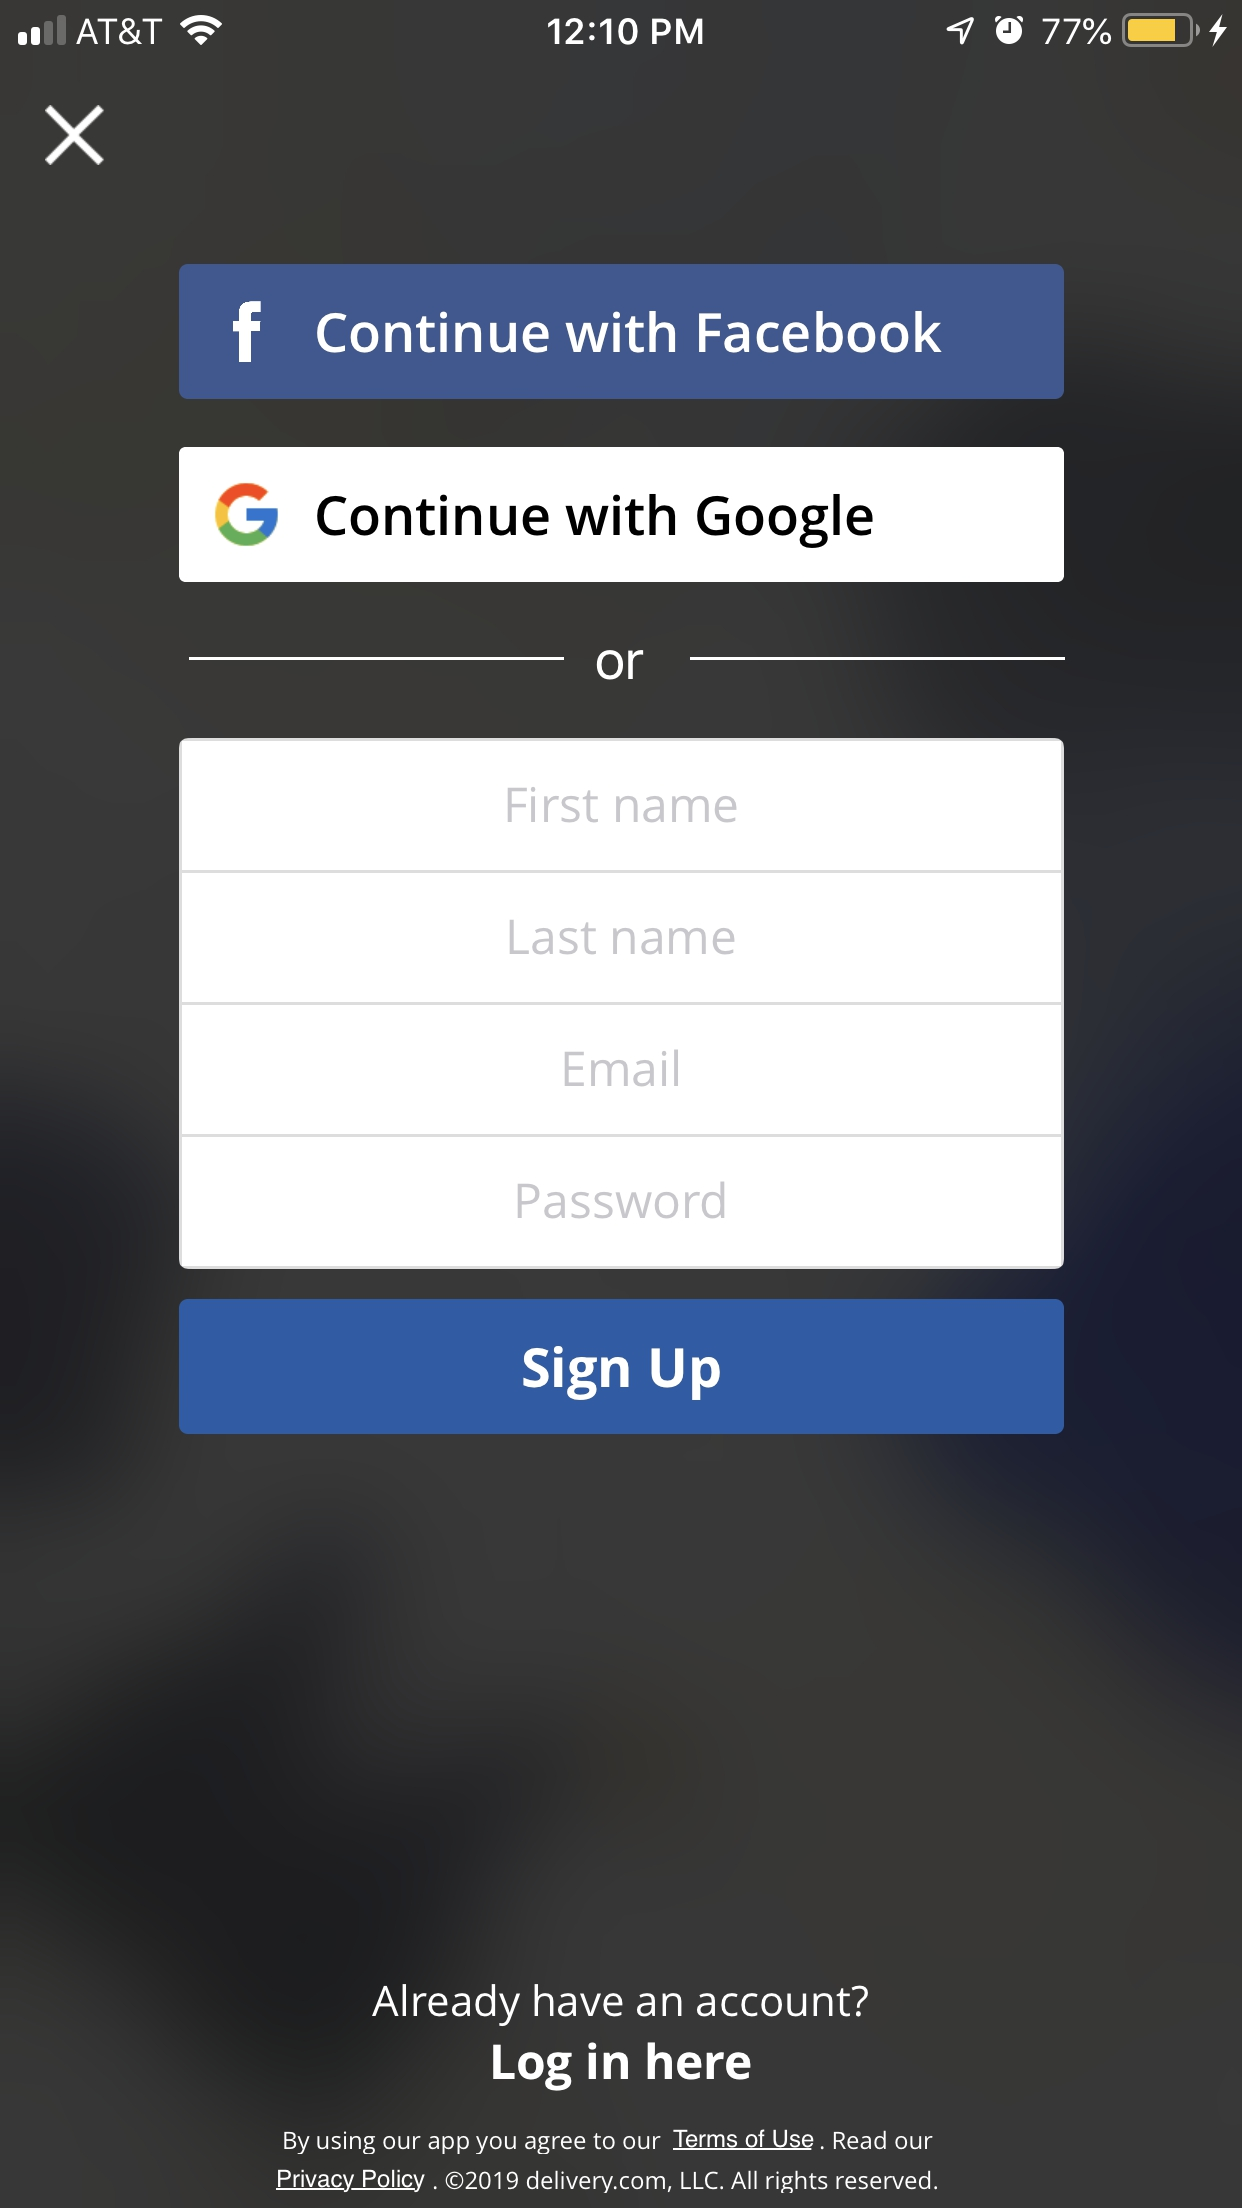EditText: (180, 739, 1065, 873), (180, 870, 1065, 1005), (180, 1002, 1065, 1137), (180, 1134, 1065, 1269)
Icon: (45, 105, 106, 165)
Text: (276, 2128, 939, 2194), (372, 1984, 869, 2028), (493, 2041, 752, 2093), (507, 786, 737, 823), (510, 919, 735, 955), (519, 1181, 726, 1219), (564, 1049, 679, 1087), (597, 651, 645, 681)
TextButton: (177, 264, 1065, 400), (179, 1298, 1065, 1435), (180, 447, 1065, 582)
UpperTaskBar: (2, 2, 1242, 49)
